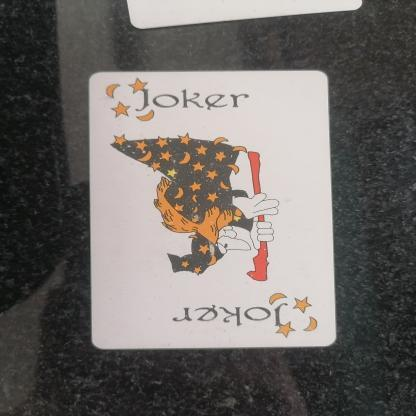BLACK JOKER: (92, 76, 280, 126), (164, 286, 328, 341)
